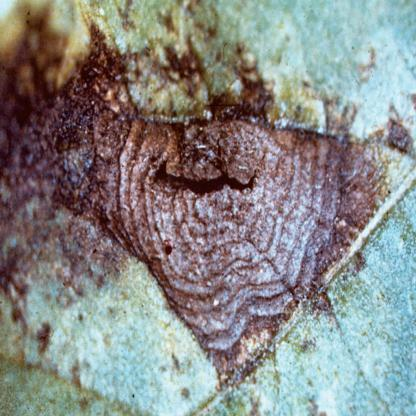Potato leaf late blight: (2, 2, 416, 410)
